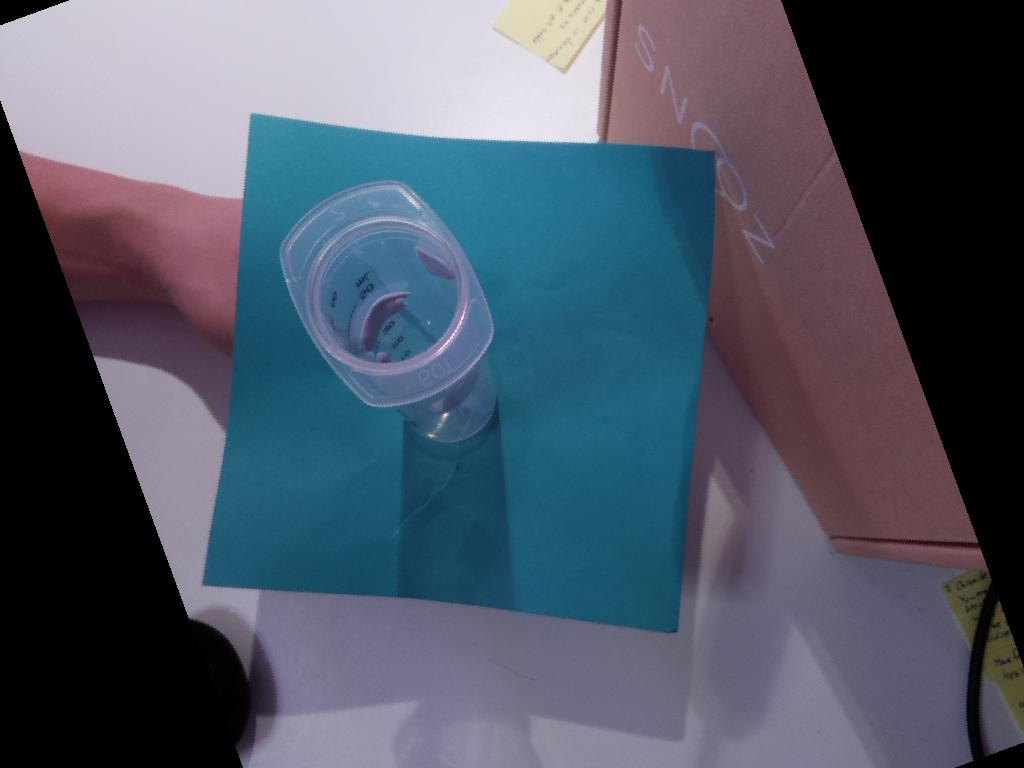dirty: (279, 180, 494, 408)
